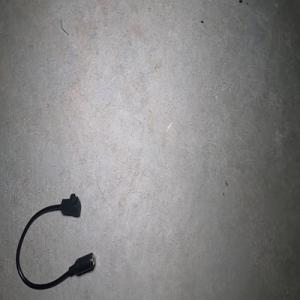Wire: (16, 193, 96, 289)
